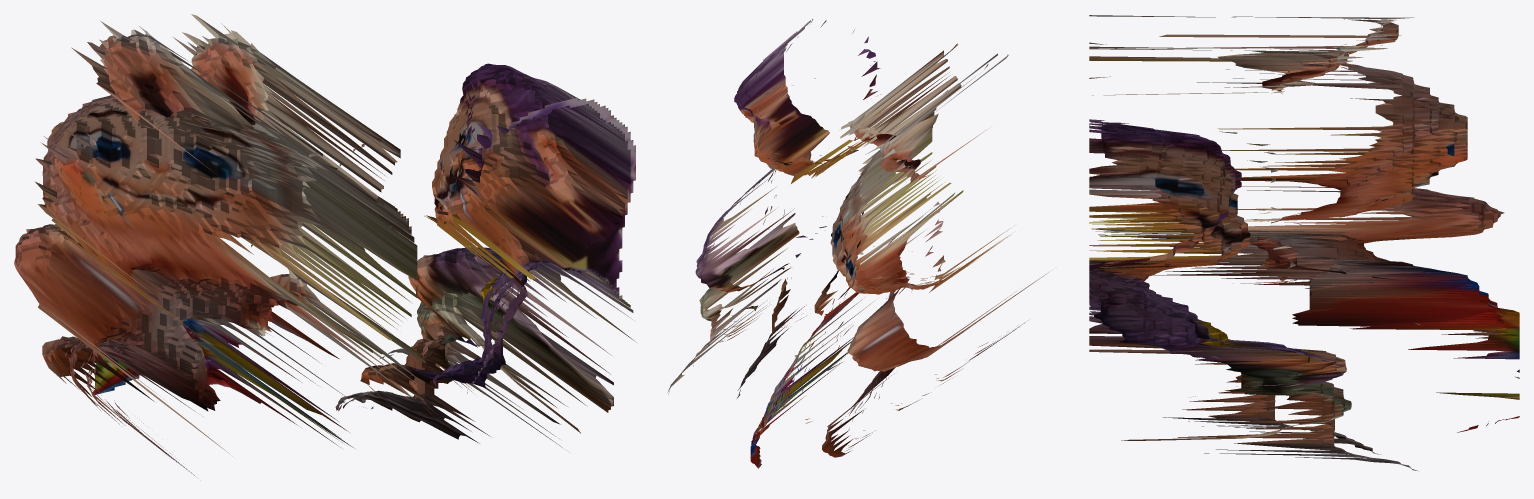
Rendered from frame_00416.glb.
3 views of the same model, side by side, from view 1: azimuth 30°, elevation 25°; view 2: azimuth 150°, elevation 25°; view 3: azimuth 270°, elevation 25° (orthographic). The views are drawn at different scales.
Parts seen in each view (by area): view 1: geometry_0; view 2: geometry_0; view 3: geometry_0.
Boxes of the visible parts, box(x1,y1,x2,y2) form: geometry_0: box(14, 14, 636, 475); geometry_0: box(667, 18, 1048, 468); geometry_0: box(1089, 15, 1519, 470).
Size of the model in its own units: 0.1476 by 0.1505 by 0.16.
Materials: 1 (1 with a texture image).
